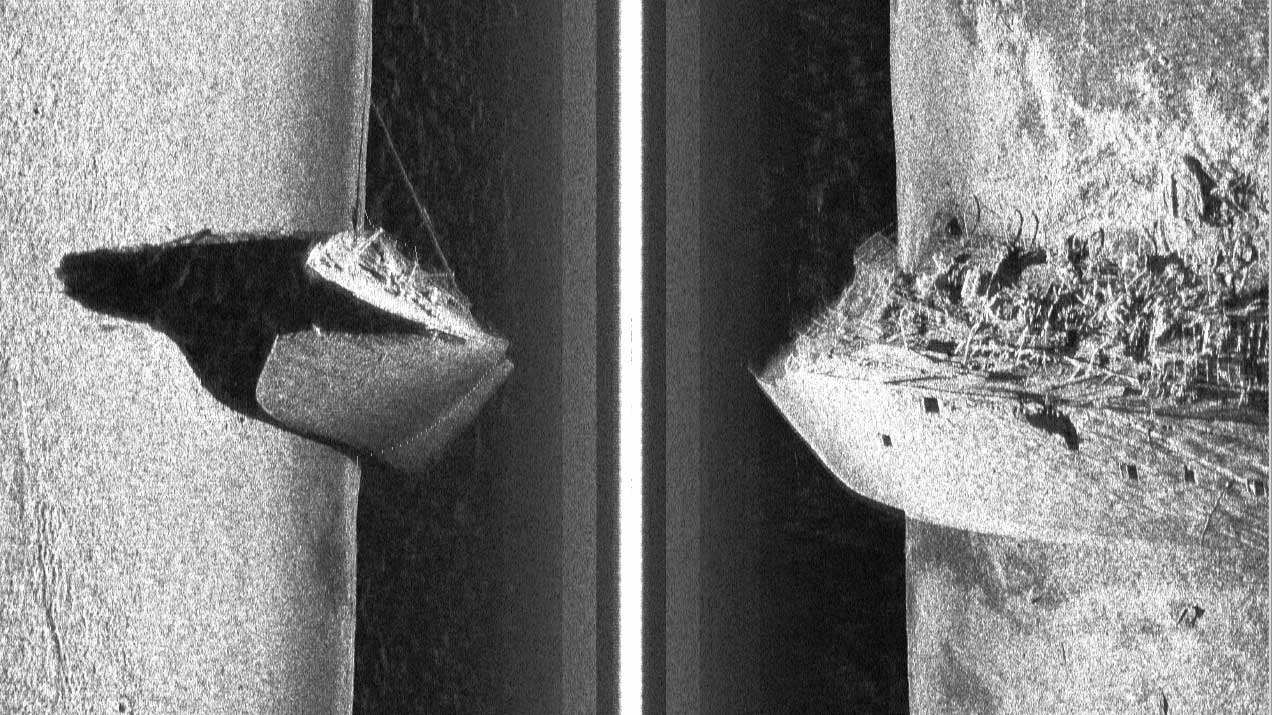ship: (749, 206, 1272, 559), (254, 224, 518, 478)
